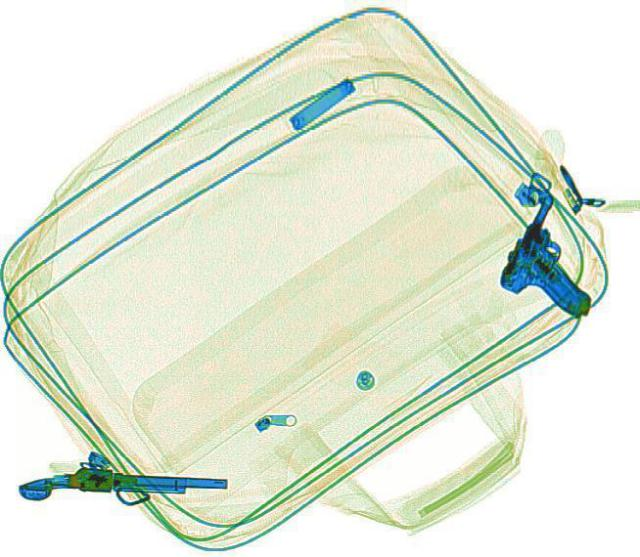Gun: (488, 189, 630, 318), (17, 468, 229, 498)
